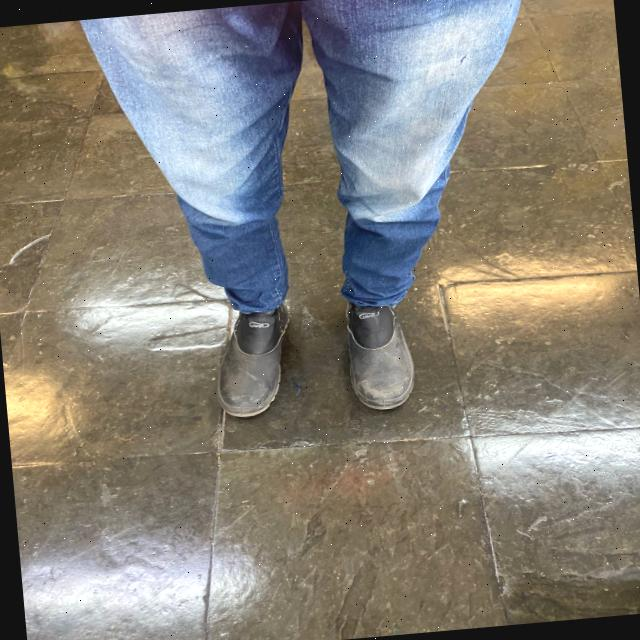BOTA: (195, 282, 300, 419), (336, 285, 417, 412)
